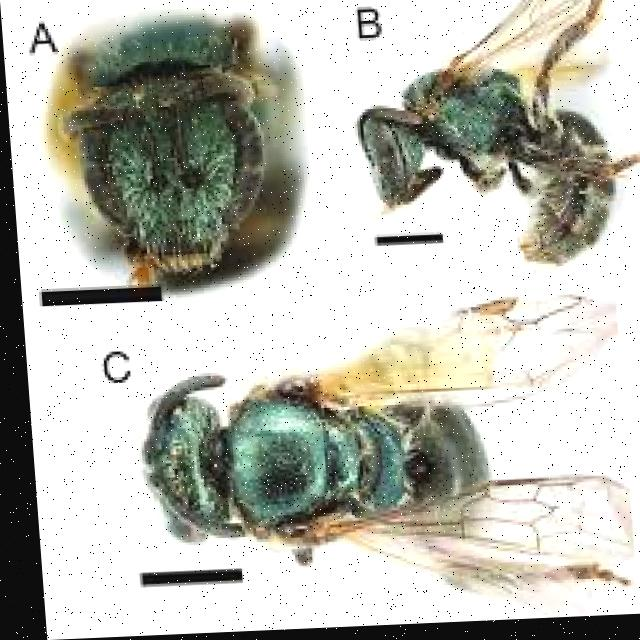Lasioglossum: (107, 298, 640, 634), (330, 0, 640, 284), (46, 7, 303, 277)
